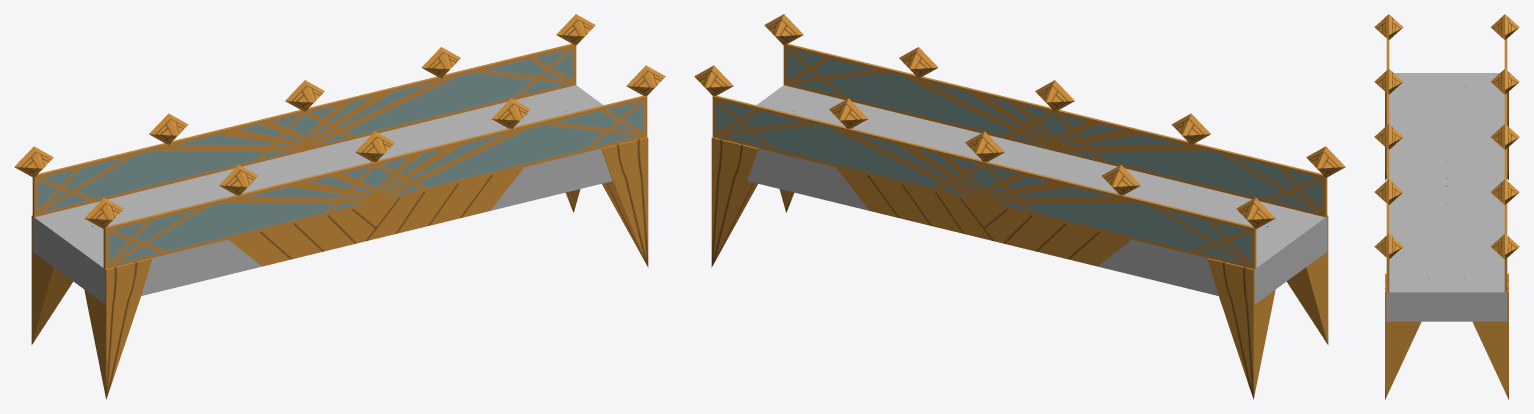
Rendered from Bridge_v1.fbx.
The picture shows the model from 3 angles, left to right: view 1: azimuth 30°, elevation 25°; view 2: azimuth 150°, elevation 25°; view 3: azimuth 270°, elevation 25°; orthographic projection. The views are drawn at different scales.
Visible parts, largest first — view 1: polySurface470 (×4), polySurface471 (×2), polySurface456, polySurface457 (×3), pCube85 (×3); view 2: polySurface470 (×4), polySurface471 (×2), polySurface456, polySurface457 (×3), pCube85 (×3); view 3: polySurface457 (×4), pCube85 (×2), polySurface470 (×4), pCylinder3 (×6), pCylinder7 (×6), pCylinder1 (×4), pCylinder5 (×4).
Part boxes in pixels (<box>): polySurface470 (×4): <box>32,43,647,269</box>; polySurface471 (×2): <box>34,44,576,217</box>; polySurface456: <box>141,148,612,295</box>; polySurface457 (×3): <box>32,85,603,304</box>; pCube85 (×3): <box>31,137,648,399</box>; polySurface470 (×4): <box>712,43,1327,269</box>; polySurface471 (×2): <box>783,44,1325,217</box>; polySurface456: <box>747,148,1218,295</box>; polySurface457 (×3): <box>756,85,1327,304</box>; pCube85 (×3): <box>711,137,1328,399</box>; polySurface457 (×4): <box>1386,73,1507,321</box>; pCube85 (×2): <box>1385,273,1508,399</box>; polySurface470 (×4): <box>1386,39,1507,292</box>; pCylinder3 (×6): <box>1374,14,1519,144</box>; pCylinder7 (×6): <box>1389,14,1504,144</box>; pCylinder1 (×4): <box>1374,179,1519,254</box>; pCylinder5 (×4): <box>1389,179,1504,254</box>.
Bounding box in the file's own units: 1671 × 551 × 436.
